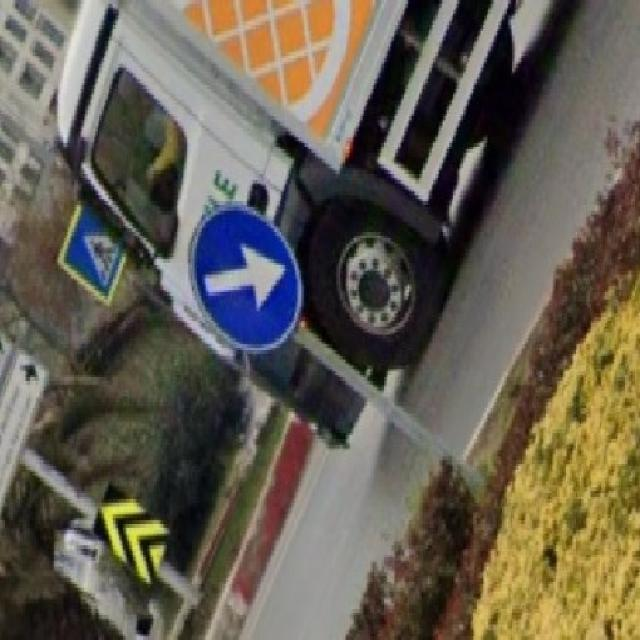Turn Right: (185, 213, 309, 346)
